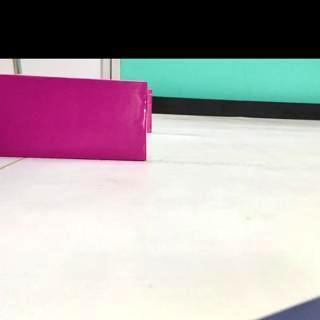xparking: (3, 86, 147, 162)
